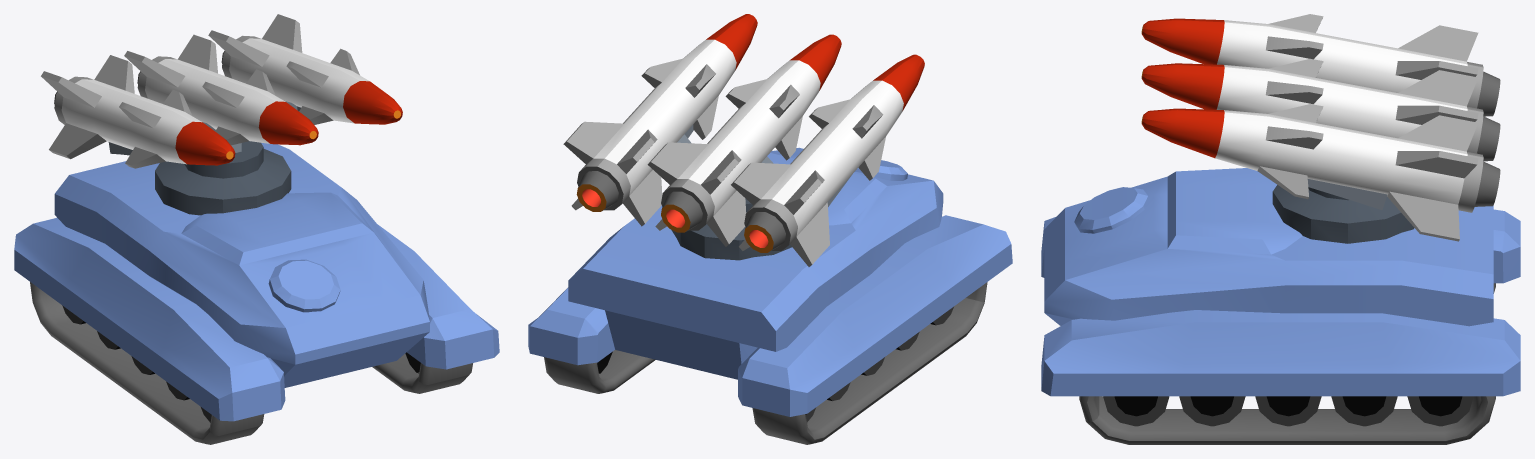
File: Missle_Vehicles3_ver2.fbx
The picture shows the model from 3 angles, left to right: view 1: azimuth 30°, elevation 25°; view 2: azimuth 150°, elevation 25°; view 3: azimuth 270°, elevation 25°; orthographic projection. The views are drawn at different scales.
Parts seen in each view (by area): view 1: Body, Missile19, Missile18, Missile17, Tie_R3, Top, Tie_R4; view 2: Body, Missile19, Missile18, Missile17, Tie_R3, Tie_R4, Top; view 3: Body, Missile18, Tie_R4, Missile17, Missile19, Top.
Boxes of the visible parts, x1,y1,x2,y2 form: Body: [14, 142, 499, 421]; Missile19: [41, 55, 235, 168]; Missile18: [208, 14, 402, 124]; Missile17: [124, 34, 318, 145]; Tie_R3: [30, 282, 264, 444]; Top: [108, 100, 300, 215]; Tie_R4: [372, 352, 472, 393]; Body: [528, 147, 1012, 416]; Missile19: [731, 54, 924, 266]; Missile18: [563, 14, 757, 226]; Missile17: [647, 34, 841, 246]; Tie_R3: [752, 282, 987, 444]; Tie_R4: [544, 350, 655, 393]; Top: [671, 124, 852, 260]; Body: [1041, 168, 1520, 396]; Missile18: [1141, 104, 1500, 241]; Tie_R4: [1079, 396, 1495, 444]; Missile17: [1141, 58, 1500, 161]; Missile19: [1141, 14, 1500, 116]; Top: [1272, 179, 1414, 243].
Size of the model in its own units: 203 by 196 by 274.
